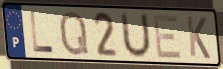2: (92, 11, 118, 59)
E: (151, 14, 184, 61)
K: (185, 14, 212, 61)
L: (28, 10, 56, 54)
Q: (58, 9, 90, 58)
U: (120, 10, 152, 60)
